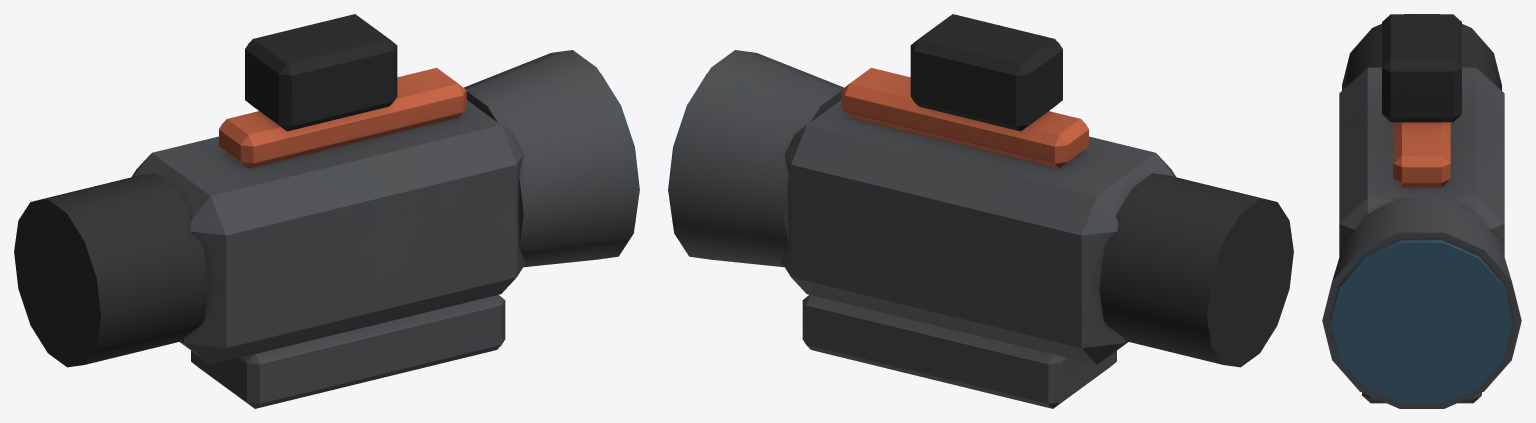
The model's file is AT_ACOG.fbx.
The picture shows the model from 3 angles, left to right: view 1: azimuth 30°, elevation 25°; view 2: azimuth 150°, elevation 25°; view 3: azimuth 270°, elevation 25°; orthographic projection. The views are drawn at different scales.
Visible parts, largest first — view 1: AT_ACOG; view 2: AT_ACOG; view 3: AT_ACOG.
Part boxes in pixels (x1,y1,x2,y2): AT_ACOG: [14, 14, 639, 408]; AT_ACOG: [668, 14, 1293, 408]; AT_ACOG: [1322, 14, 1521, 408].
Bounding box in the file's own units: 0.099 × 0.058 × 0.035.
1 material, 1 textured.
